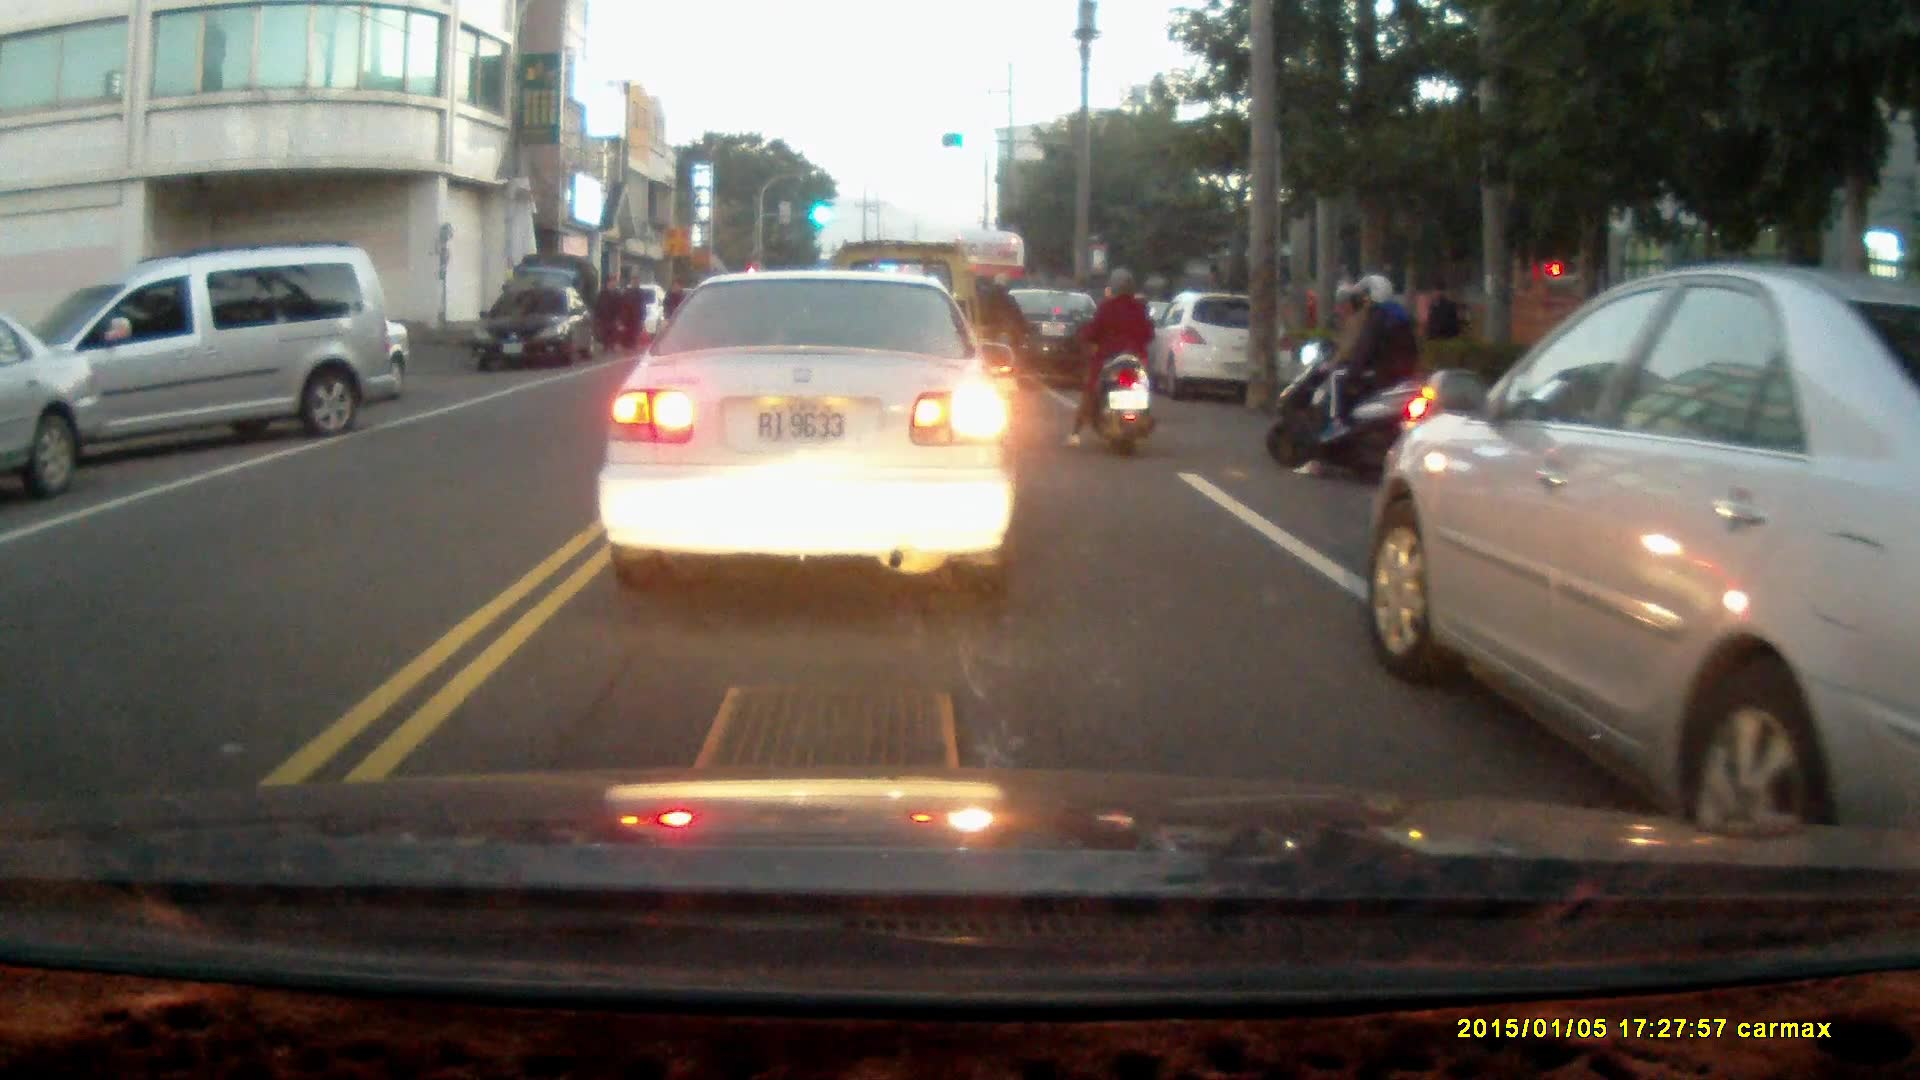pedestrian: (1420, 277, 1459, 371), (595, 273, 625, 355), (617, 273, 644, 353), (660, 276, 688, 346)
rider: (1264, 269, 1428, 479), (1060, 263, 1156, 453), (969, 269, 1029, 389)
vehicle: (1370, 260, 1915, 847), (606, 268, 1023, 598), (11, 246, 390, 467), (1, 311, 104, 501), (1145, 294, 1288, 400), (977, 286, 1116, 391), (481, 280, 600, 369)
